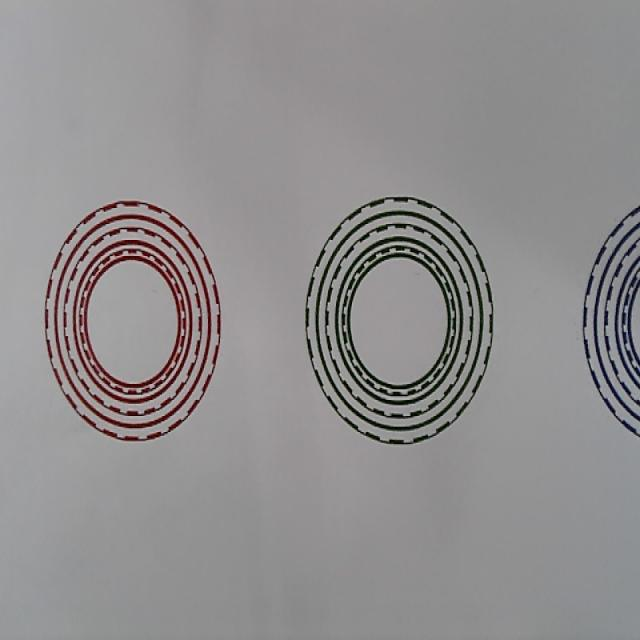g: (305, 195, 493, 445)
red-green-blue: (44, 198, 222, 442)
